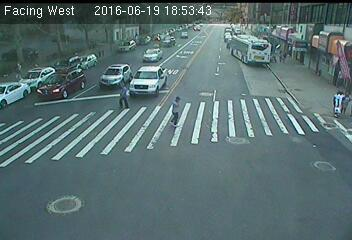neg: (234, 46, 254, 73), (210, 36, 229, 62), (84, 41, 100, 63), (110, 44, 126, 66), (171, 42, 183, 58)
pos: (163, 95, 189, 129), (113, 80, 137, 111), (10, 62, 24, 81), (340, 90, 351, 112), (273, 48, 284, 63), (282, 49, 292, 63)
